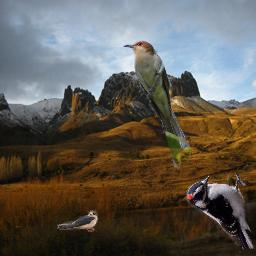Cuckoo: (123, 40, 191, 169)
Swallow: (57, 210, 98, 232)
Woodpecker: (186, 174, 255, 249)
